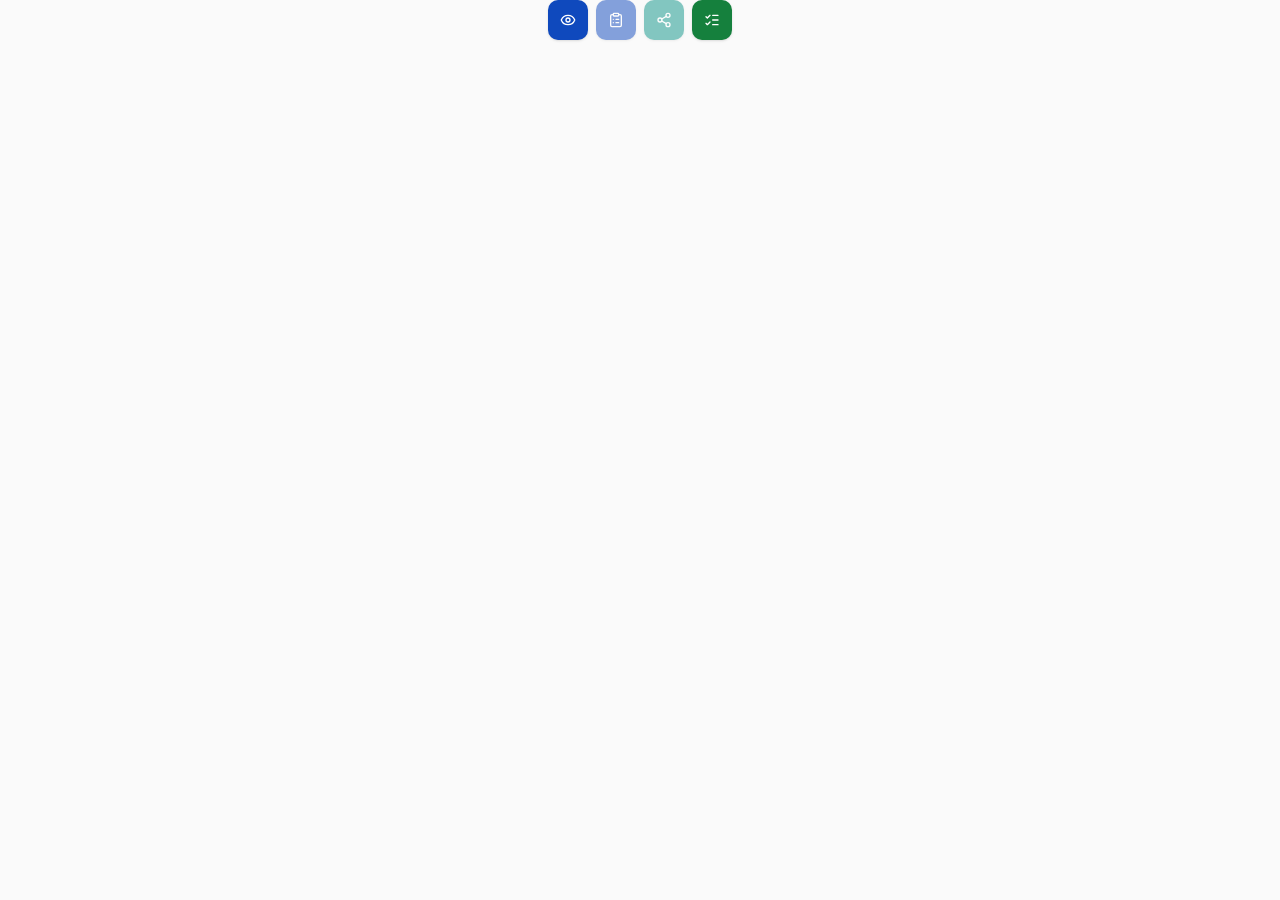
Scenario: watchlist case actions › reads every full observation in a dialog without leaving watchlist or opening a case
Click the button named "ดูข้อสังเกตทั้งหมดของ" at [568, 20], box [548, 0, 588, 40]
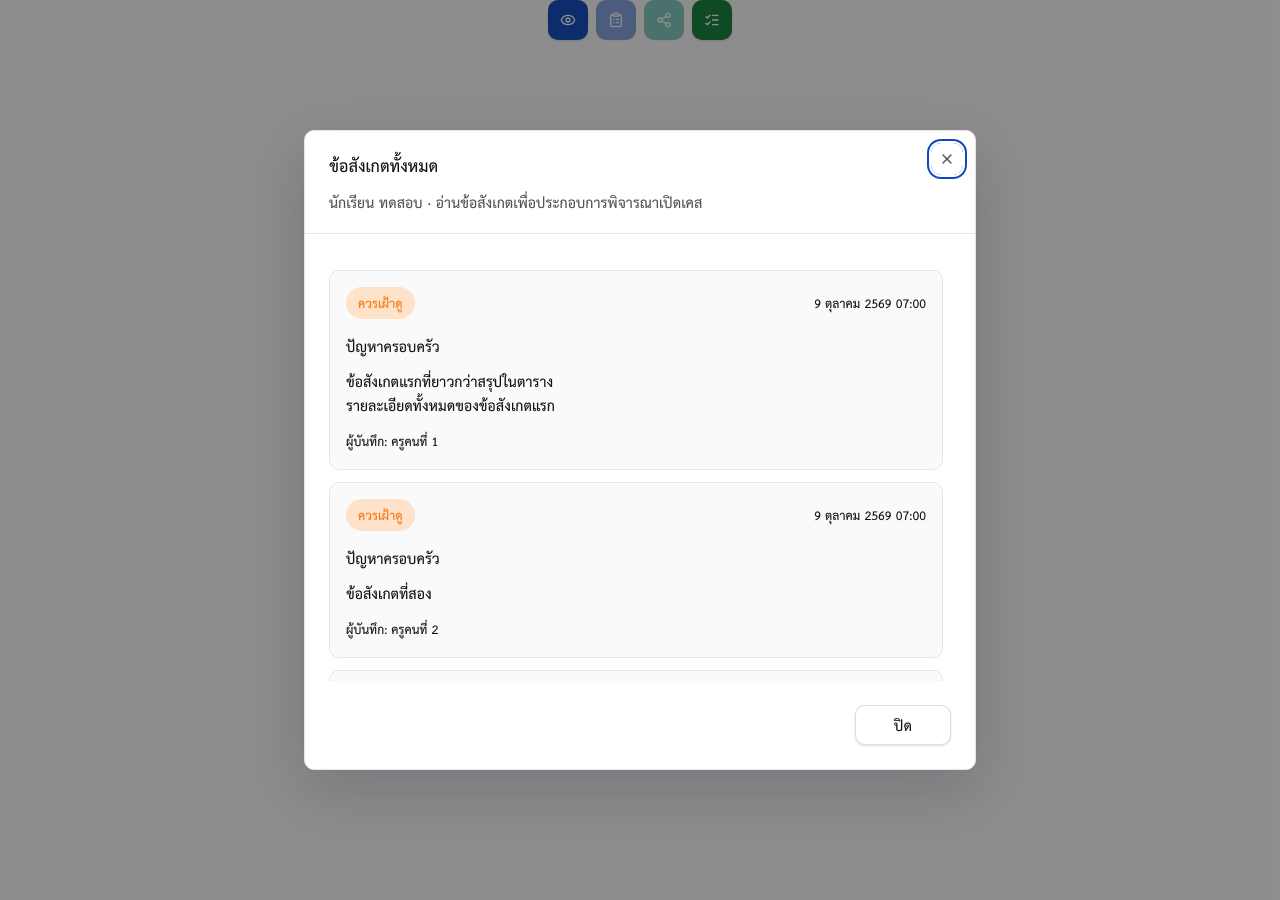
Check: the number of list items is 3
Check: the text "ข้อสังเกตที่สอง" is shown, box [346, 581, 432, 604]
Click the button "ปิด" at [903, 725], box [855, 705, 951, 745]
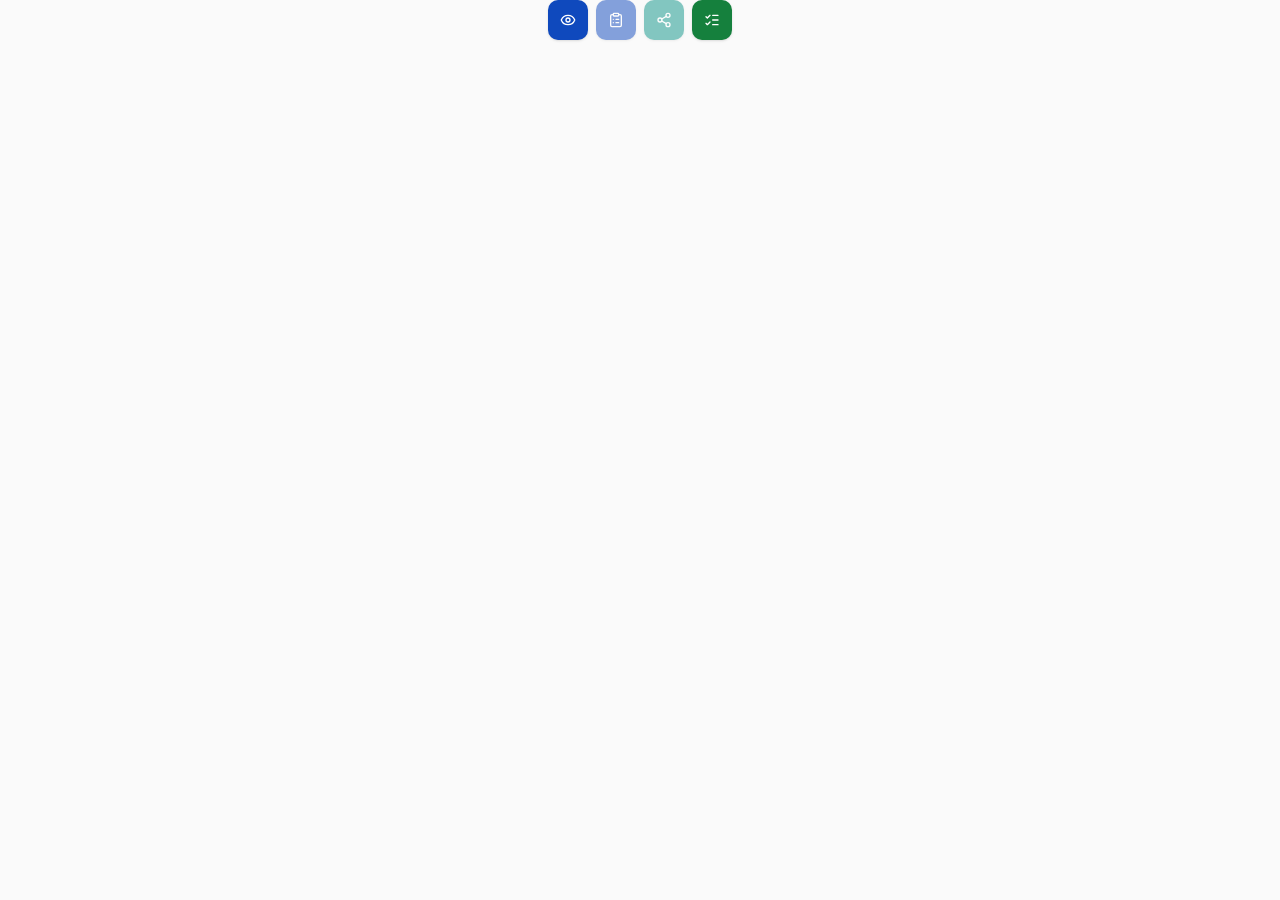
Check: the dialog is gone
